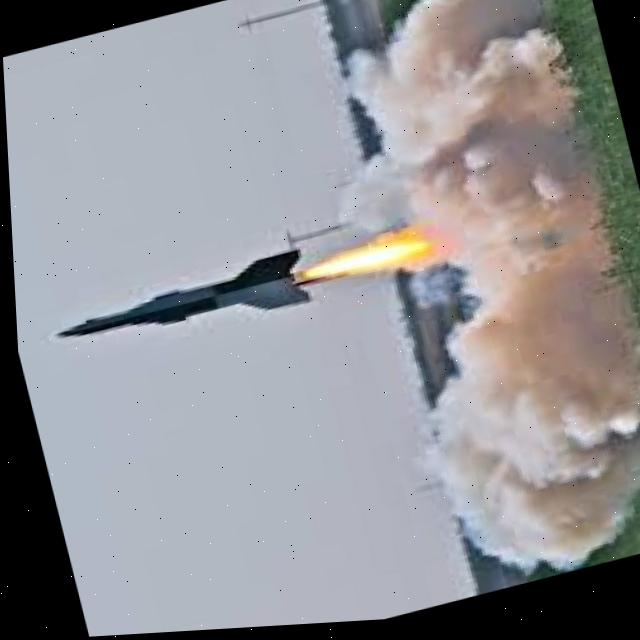missile: (36, 247, 310, 374)
